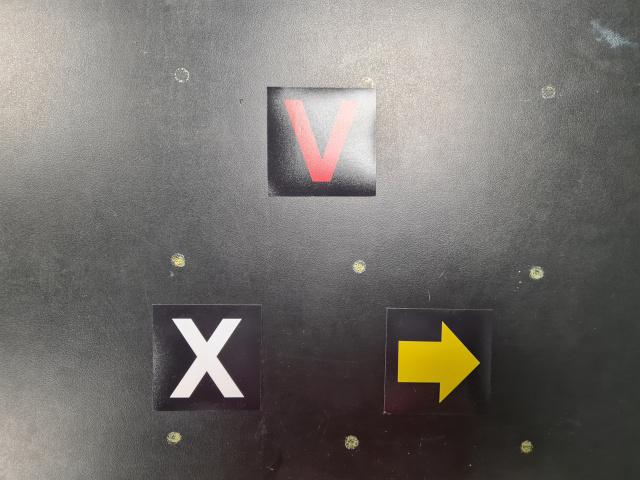right: (383, 307, 496, 421)
v: (266, 86, 377, 197)
x: (151, 304, 261, 409)
